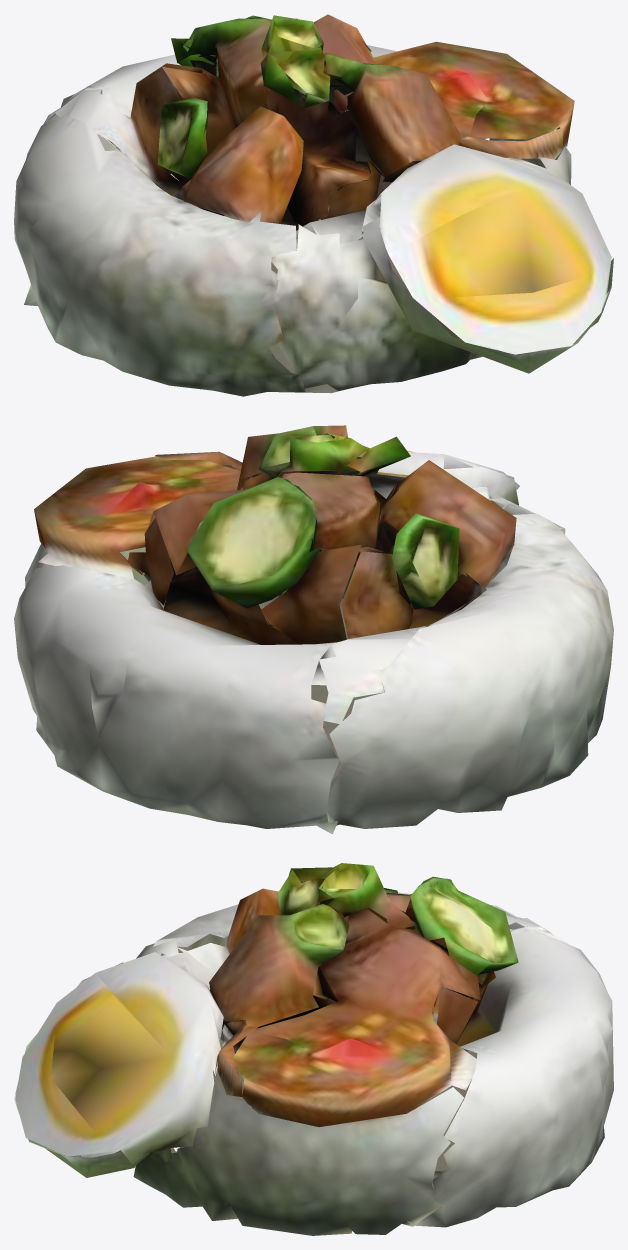
File: pickup_nasi_padang.glb
3 renders of one model, top to bottom at view 1: azimuth 30°, elevation 25°; view 2: azimuth 150°, elevation 25°; view 3: azimuth 270°, elevation 25°, orthographic. The views are drawn at different scales.
Parts seen in each view (by area): view 1: pickup_nasi_padang; view 2: pickup_nasi_padang; view 3: pickup_nasi_padang.
Part boxes in pixels (bbox=[...]): pickup_nasi_padang: bbox=[14, 14, 613, 396]; pickup_nasi_padang: bbox=[14, 425, 613, 834]; pickup_nasi_padang: bbox=[14, 863, 613, 1235].
Bounding box in the file's own units: 0.4093 × 0.2221 × 0.4483.
Materials: 1 (1 with a texture image).
